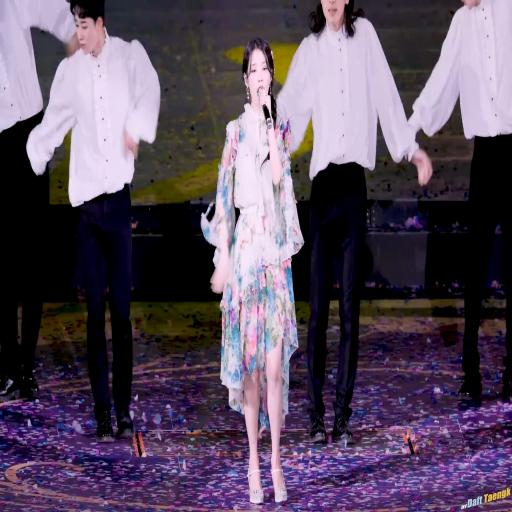IU: (242, 39, 275, 111)
